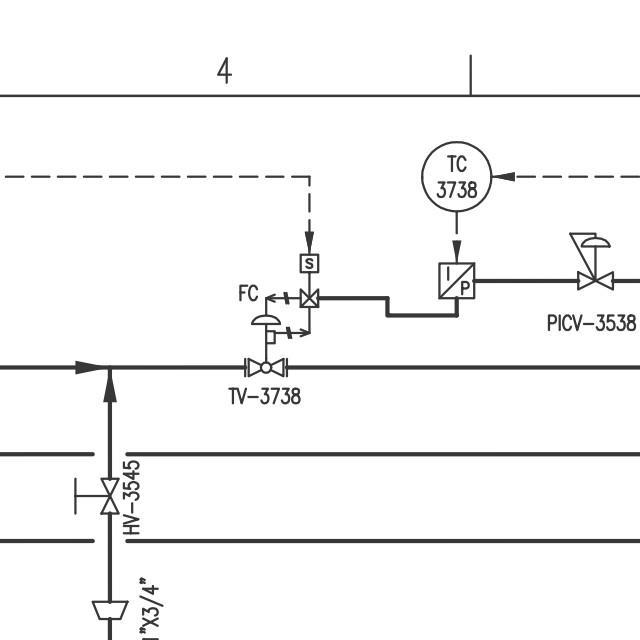CBV: (239, 247, 322, 388)
HVWT: (67, 473, 119, 517)
PCV: (565, 225, 619, 290)
SP: (89, 596, 130, 623)
